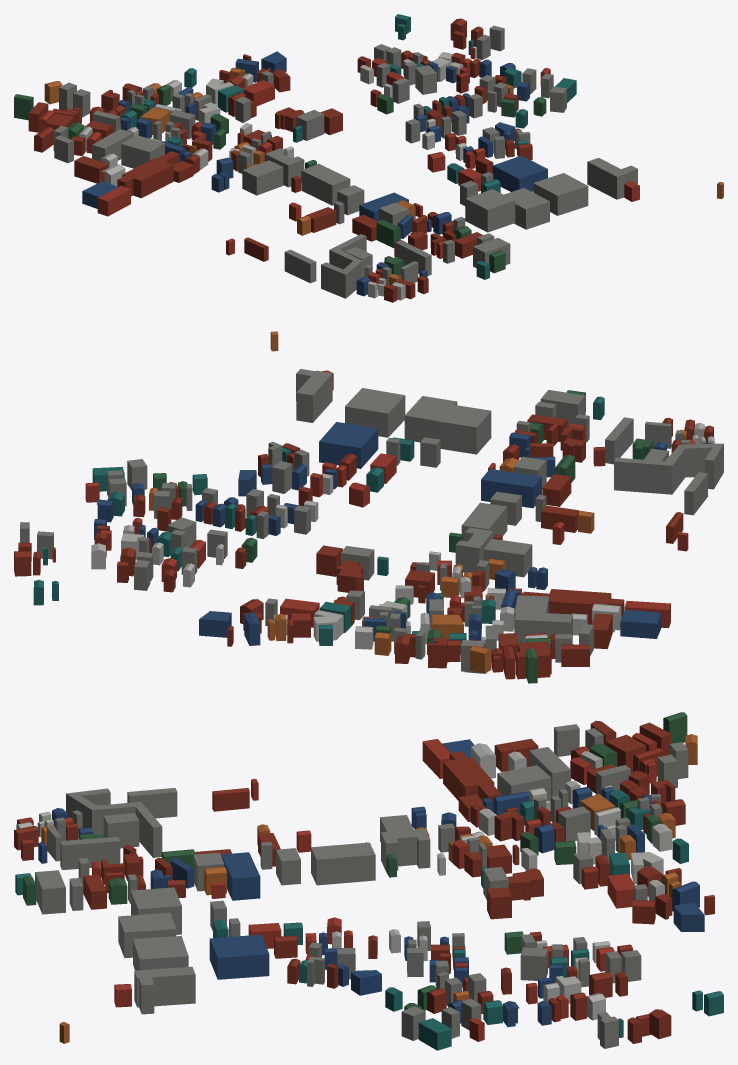
The model's file is near-16-54720-29729.0db58a56.glb.
The picture shows the model from 3 angles, top to bottom: view 1: azimuth 30°, elevation 25°; view 2: azimuth 150°, elevation 25°; view 3: azimuth 270°, elevation 25°; orthographic projection. The views are drawn at different scales.
Size of the model in its own units: 592 by 54.96 by 597.
